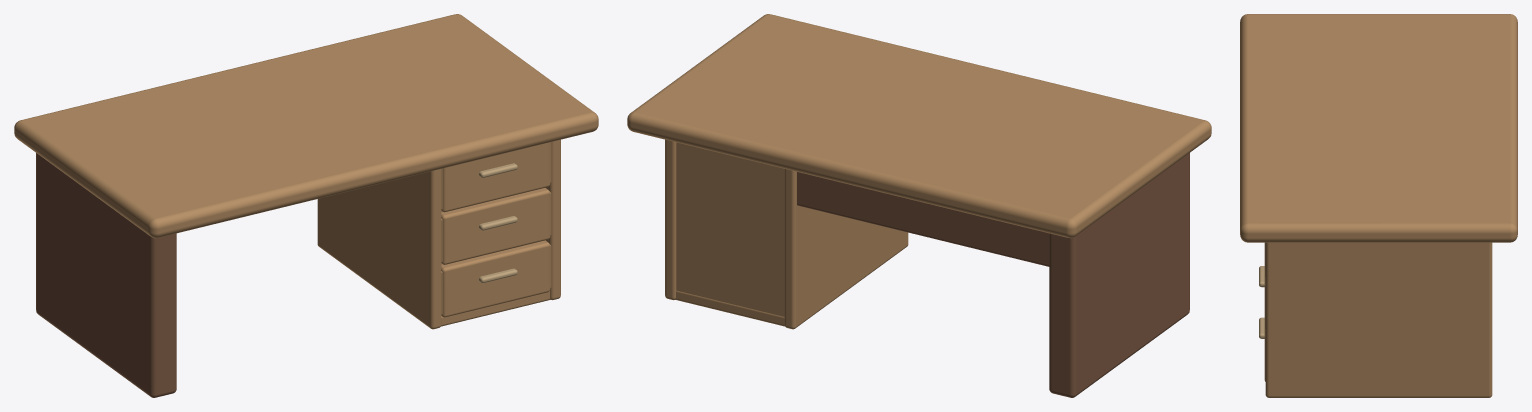
The model's file is desk.glb.
3 renders of one model, left to right at view 1: azimuth 30°, elevation 25°; view 2: azimuth 150°, elevation 25°; view 3: azimuth 270°, elevation 25°, orthographic.
Visible parts, largest first — view 1: solid-rounded-worktop, left-support-panel, drawer-pedestal-side--1, desk-drawer-0-front, desk-drawer-1-front, desk-drawer-2-front, drawer-pedestal-side-1, drawer-pedestal-base; view 2: solid-rounded-worktop, left-support-panel, drawer-pedestal-back, drawer-pedestal-side--1, rear-modesty-and-support-rail, drawer-pedestal-side-1, drawer-pedestal-base; view 3: solid-rounded-worktop, drawer-pedestal-side-1.
Part boxes in pixels (x1,y1,x2,y2): solid-rounded-worktop: (14, 14, 598, 238); left-support-panel: (36, 153, 176, 397); drawer-pedestal-side--1: (317, 169, 441, 329); desk-drawer-0-front: (441, 240, 550, 317); desk-drawer-1-front: (441, 188, 550, 264); desk-drawer-2-front: (441, 142, 550, 212); drawer-pedestal-side-1: (545, 139, 560, 300); drawer-pedestal-base: (441, 263, 550, 326); solid-rounded-worktop: (627, 14, 1211, 238); left-support-panel: (1049, 153, 1189, 397); drawer-pedestal-back: (676, 142, 784, 316); drawer-pedestal-side--1: (784, 169, 908, 329); rear-modesty-and-support-rail: (797, 172, 1049, 266); drawer-pedestal-side-1: (665, 139, 676, 300); drawer-pedestal-base: (675, 290, 784, 326); solid-rounded-worktop: (1240, 14, 1517, 242); drawer-pedestal-side-1: (1265, 242, 1492, 397).
Size of the model in its own units: 2.2 by 0.8839 by 1.2.
